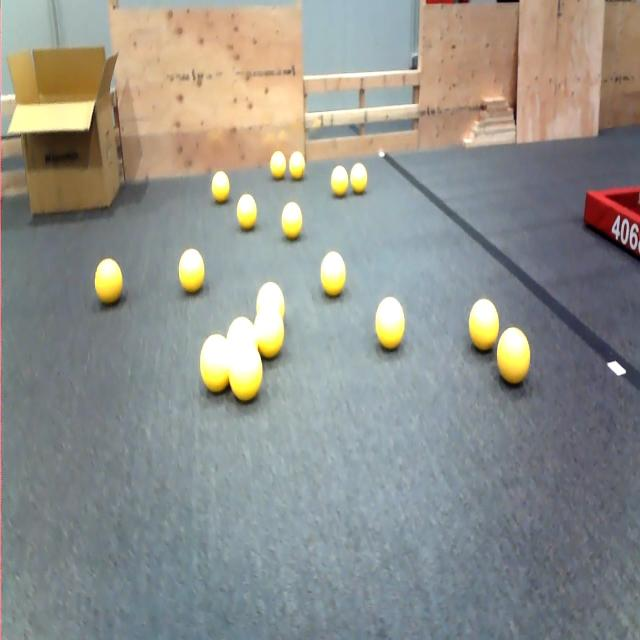fuel: (229, 344, 262, 401), (497, 328, 530, 384), (200, 335, 229, 392), (254, 306, 284, 359), (469, 299, 499, 351), (375, 297, 404, 350), (95, 258, 122, 304), (256, 281, 286, 319), (179, 248, 204, 293), (321, 251, 345, 296), (227, 317, 257, 347), (282, 202, 302, 239), (237, 194, 257, 230), (212, 171, 229, 203), (331, 166, 348, 197), (350, 163, 367, 194), (270, 151, 286, 179), (289, 152, 305, 180)
